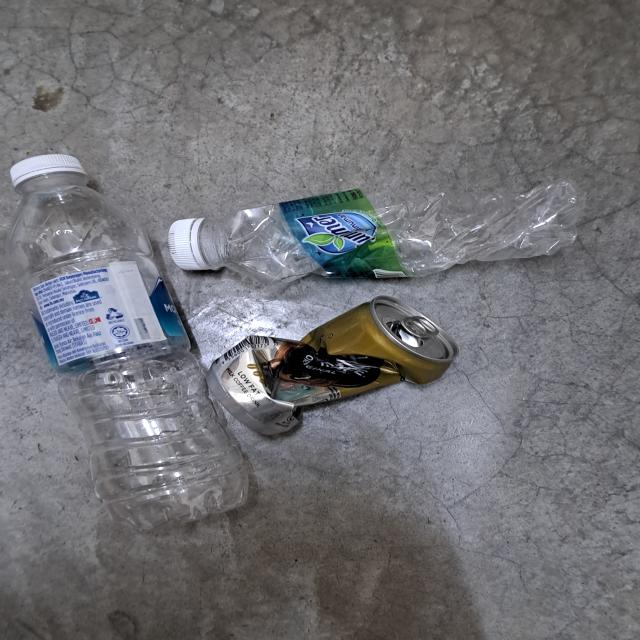can: (203, 294, 454, 435)
plastic bottle: (14, 183, 253, 532), (202, 183, 580, 273)
plastic bottle cap: (165, 202, 205, 272), (14, 153, 88, 184)
